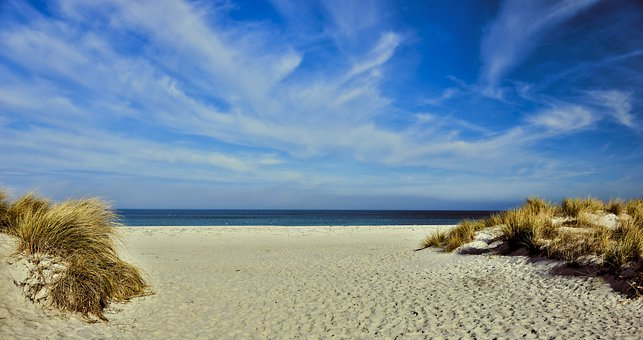beach: (4, 201, 642, 340)
sky: (4, 3, 643, 200)
